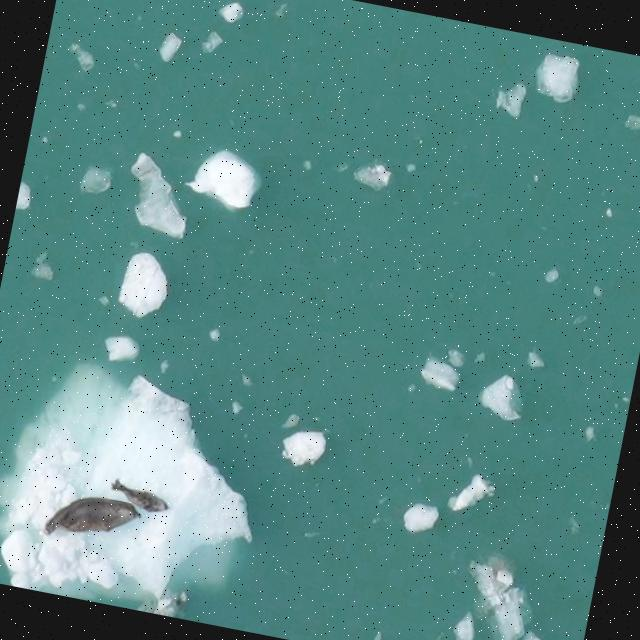seal: (43, 496, 139, 536), (106, 477, 173, 521)
